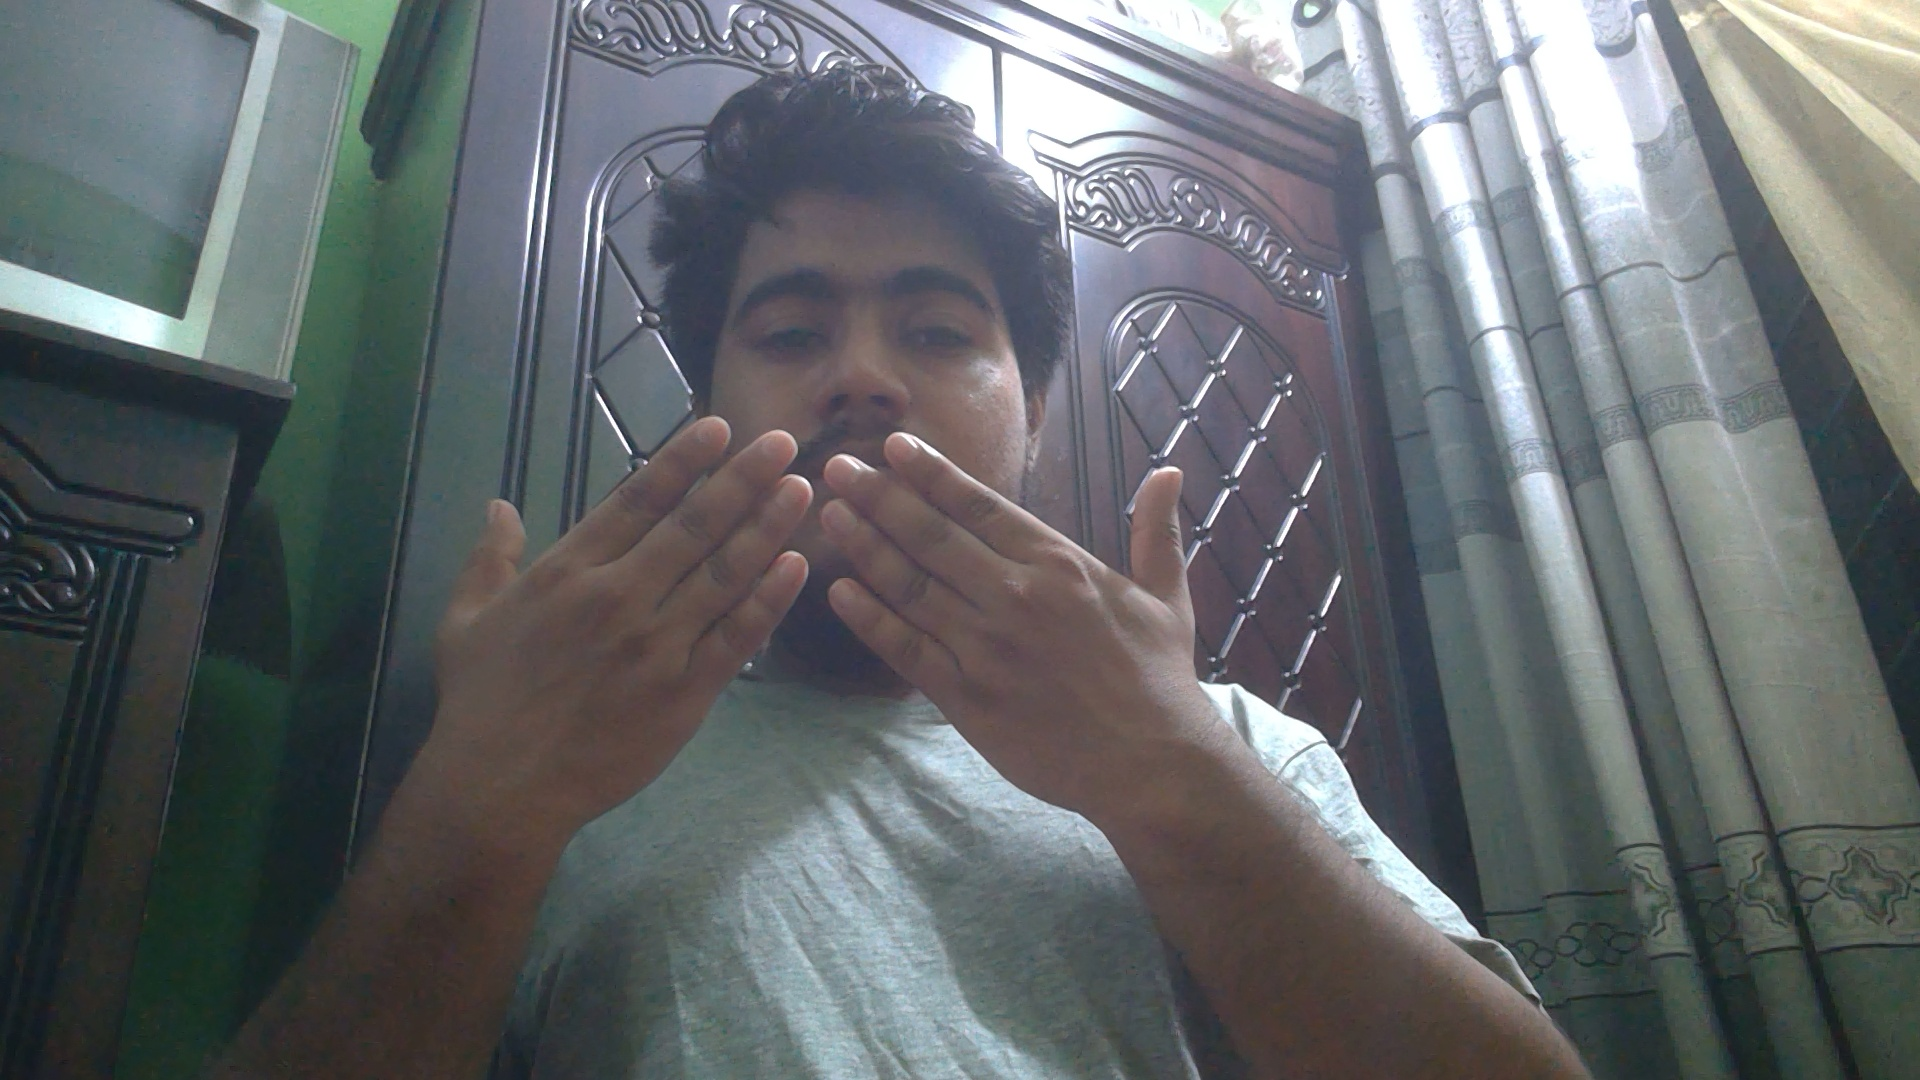thanks: (429, 396, 1215, 832)
